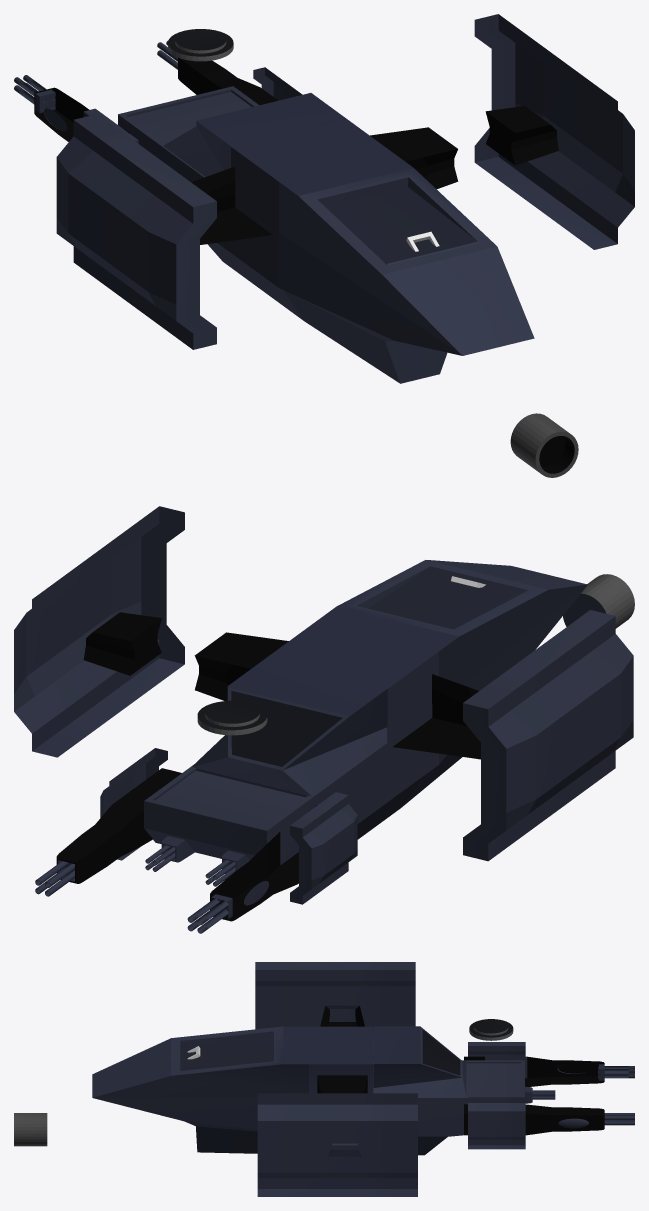
The model's file is ShipV2Broken.glb.
3 renders of one model, top to bottom at view 1: azimuth 30°, elevation 25°; view 2: azimuth 150°, elevation 25°; view 3: azimuth 270°, elevation 25°, orthographic. The views are drawn at different scales.
Visible parts, largest first — view 1: Ship, Right Wing, Thruster, Front Engine; view 2: Ship, Right Wing, Thruster, Front Engine; view 3: Ship, Right Wing, Thruster, Front Engine.
Boxes of the visible parts, x1,y1,x2,y2 form: Ship: (14,40,534,383); Right Wing: (474,14,634,249); Thruster: (510,413,578,477); Front Engine: (168,29,233,61); Ship: (35,560,633,933); Right Wing: (14,506,184,757); Thruster: (563,574,634,628); Front Engine: (197,700,267,735); Ship: (92,962,634,1155); Right Wing: (257,1093,417,1196); Thruster: (14,1113,47,1146); Front Engine: (469,1019,513,1040).
Bounding box in the file's own units: 17.26 × 6.42 × 29.07.
1 material, 1 textured.
